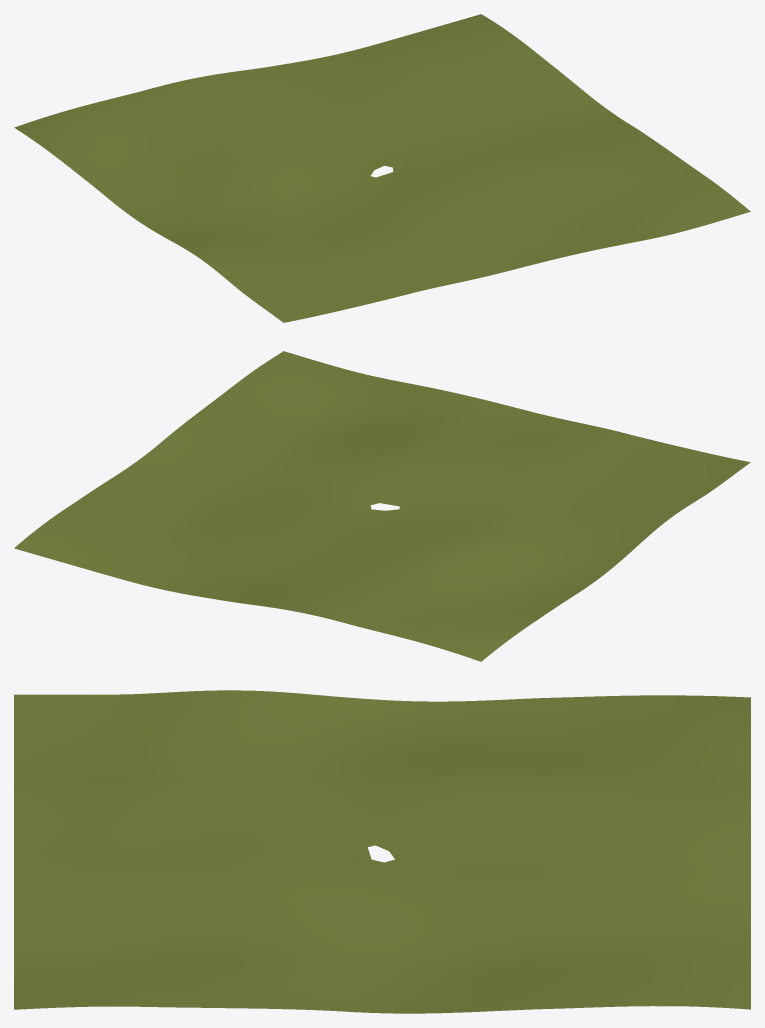
File: Grass.fbx
The picture shows the model from 3 angles, top to bottom: view 1: azimuth 30°, elevation 25°; view 2: azimuth 150°, elevation 25°; view 3: azimuth 270°, elevation 25°; orthographic projection. The views are drawn at different scales.
Visible parts, largest first — view 1: background_grass; view 2: background_grass; view 3: background_grass.
Part boxes in pixels (left/top/right/bottom): background_grass: left=14, top=14, right=750, bottom=322; background_grass: left=14, top=351, right=750, bottom=661; background_grass: left=14, top=690, right=750, bottom=1013.
Bounding box in the file's own units: 2000 × 55.8 × 2000.
